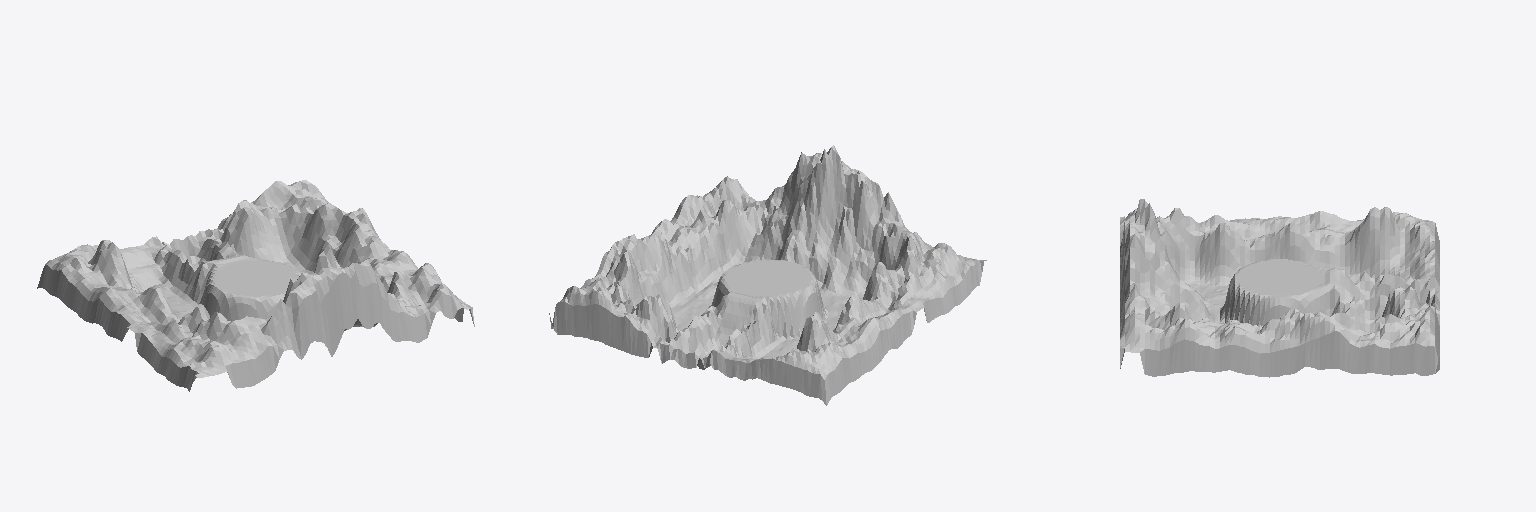
Rendered from Terrain8th.obj.
3 views of the same model, side by side, from view 1: azimuth 30°, elevation 25°; view 2: azimuth 150°, elevation 25°; view 3: azimuth 270°, elevation 25° (orthographic).
Bounding box in the file's own units: 100 × 40.49 × 100.